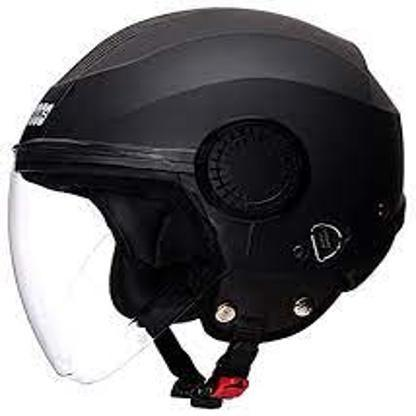not trash: (11, 6, 402, 406)
